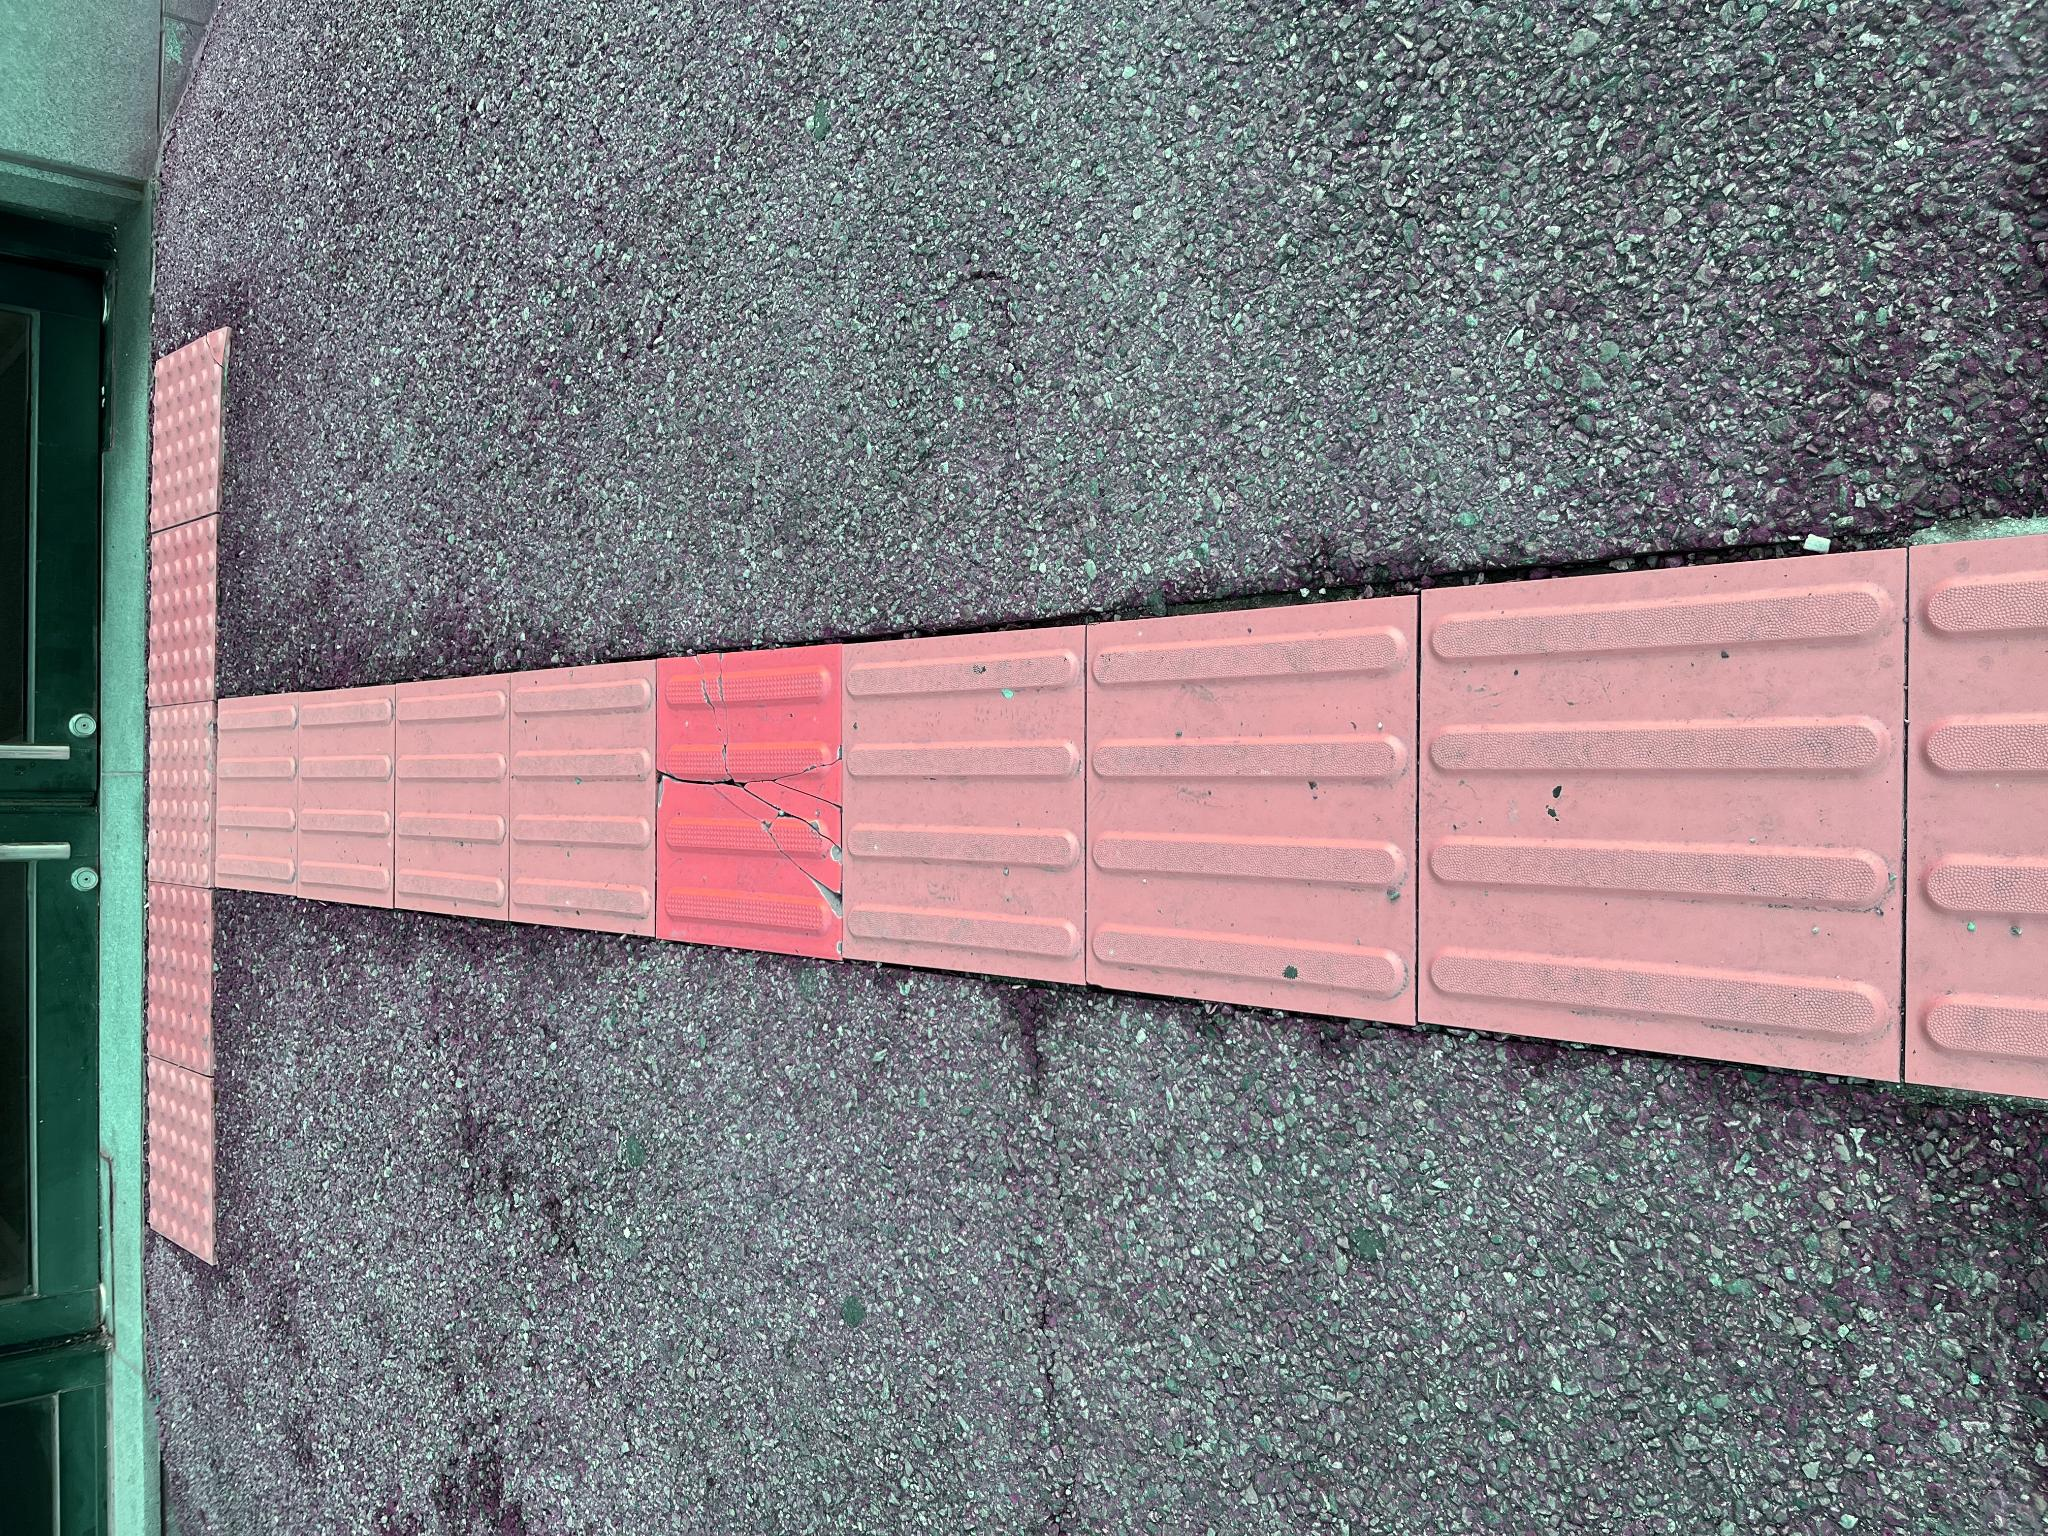Straight block broken: (577, 658, 889, 839)
Straight block normal: (553, 844, 908, 1084), (618, 395, 863, 508)
